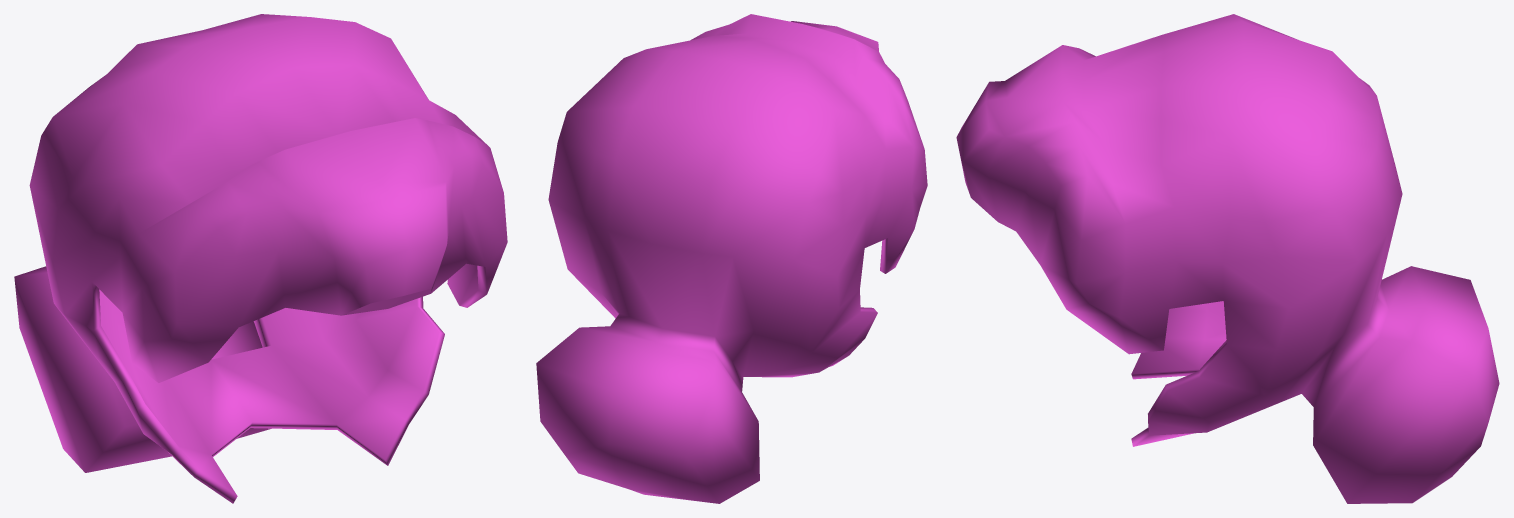
Rendered from character hair 15.fbx.
The picture shows the model from 3 angles, left to right: view 1: azimuth 30°, elevation 25°; view 2: azimuth 150°, elevation 25°; view 3: azimuth 270°, elevation 25°; orthographic projection. The views are drawn at different scales.
Visible parts, largest first — view 1: hair15; view 2: hair15; view 3: hair15.
Part boxes in pixels (x1,y1,x2,y2): hair15: (14,14,507,503); hair15: (536,14,927,503); hair15: (956,14,1499,503).
Size of the model in its own units: 0.4219 by 0.5454 by 0.6311.
